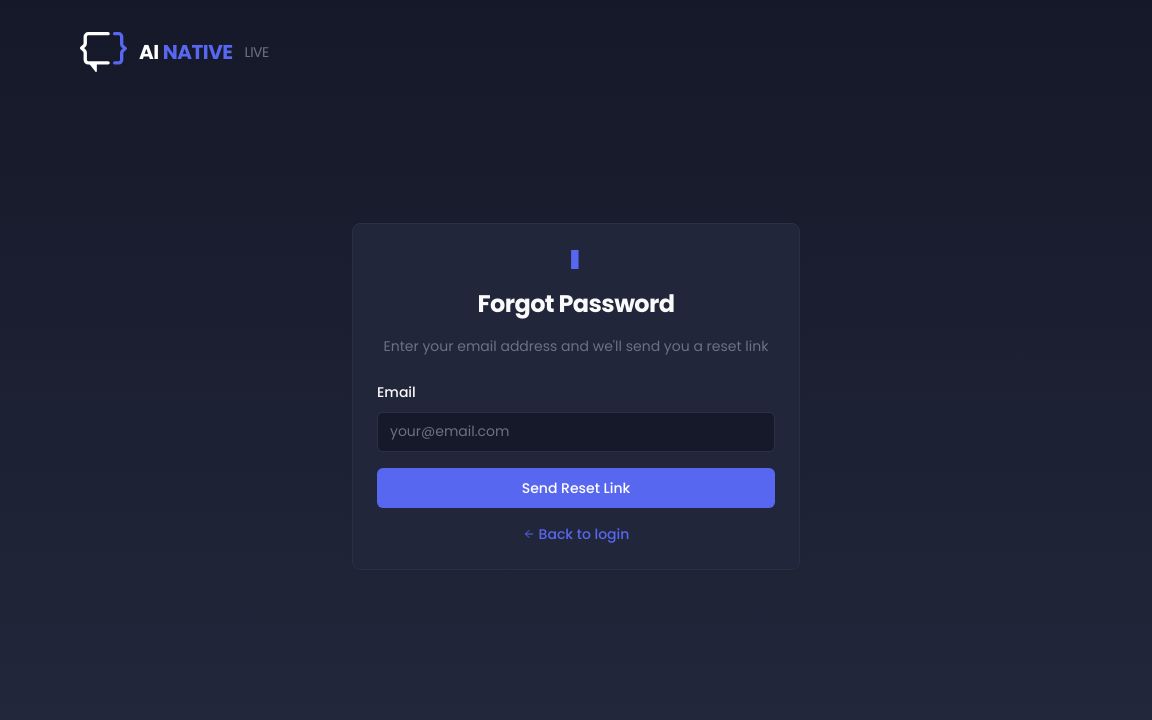
it: ForgotPasswordPage › API Integration › should display network error message
The image size is (1152, 720).
Type "user@example.com" into the field labelled "Email" at (576, 432), box [377, 412, 775, 452]
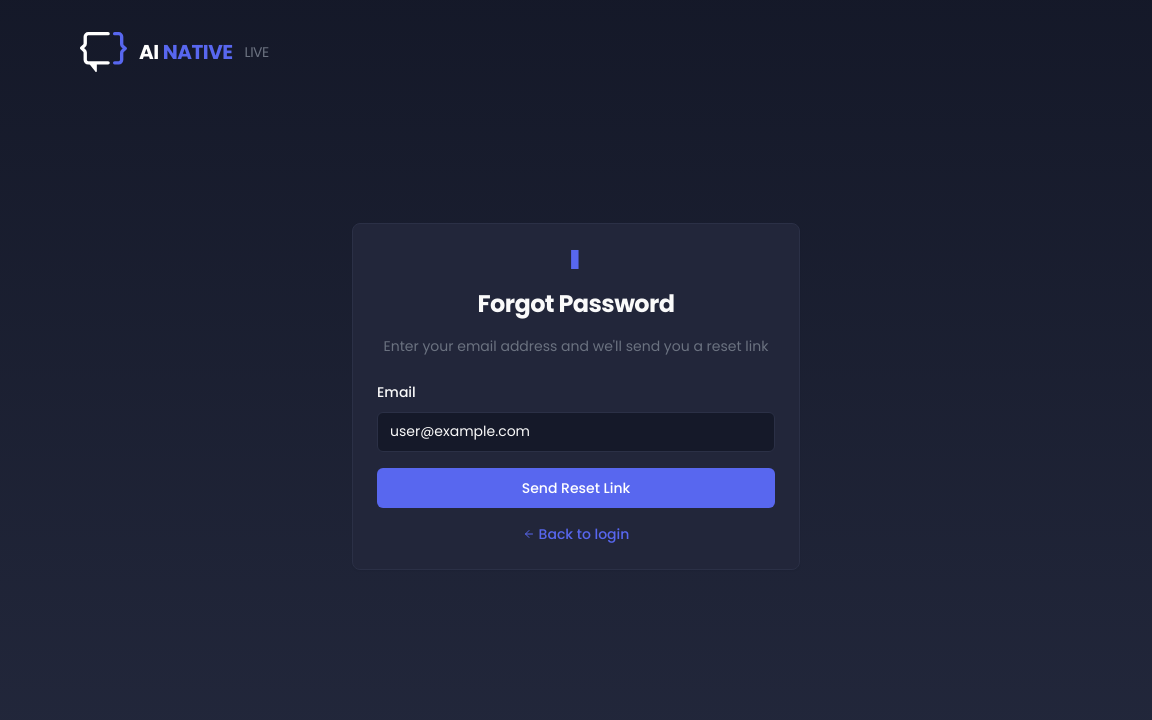
Click the button "Send Reset Link" at (576, 488), box [377, 468, 775, 508]
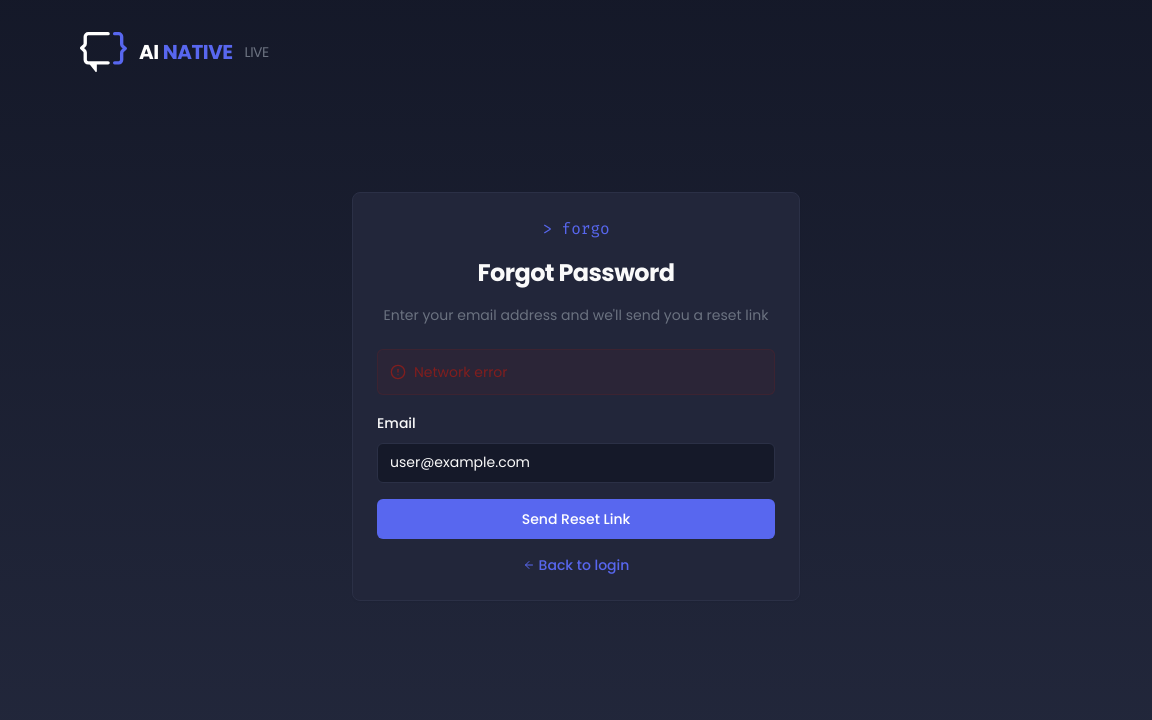
Expected: the text "Network error" is shown, [414, 362, 508, 382]
